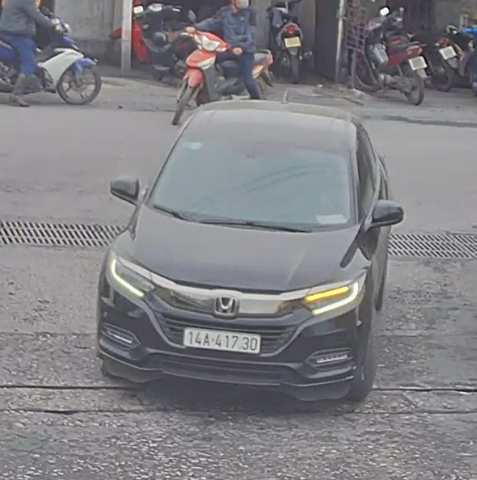vehicle plate: (173, 320, 263, 352)
